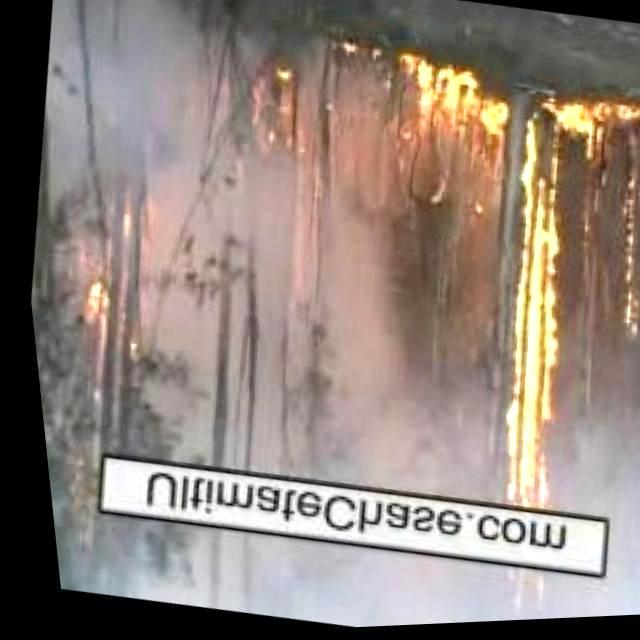fire: (435, 87, 640, 624), (34, 268, 170, 444), (370, 47, 520, 193), (218, 36, 338, 174), (591, 101, 640, 334)
